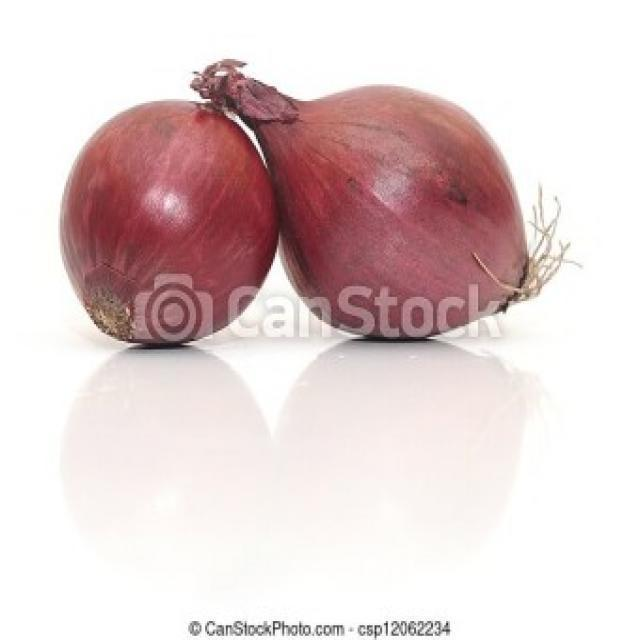Onion: (194, 58, 577, 342), (58, 99, 281, 348)
